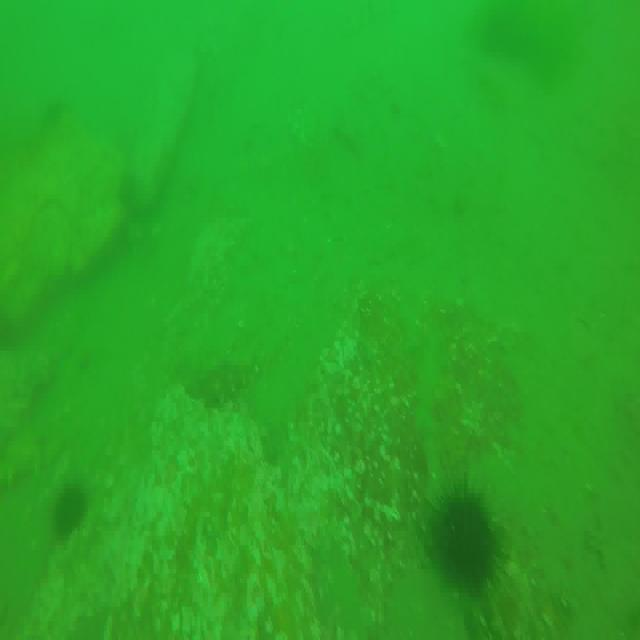echinus: (434, 480, 496, 596), (53, 482, 87, 546)
holothurian: (166, 351, 252, 428)
